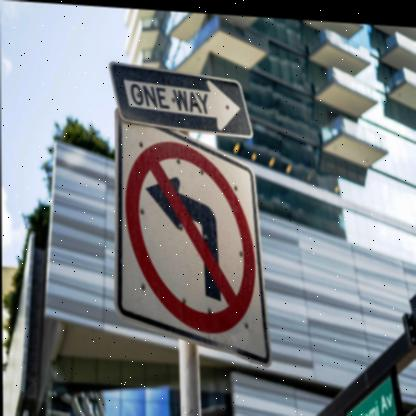No left turn: (117, 115, 263, 362)
